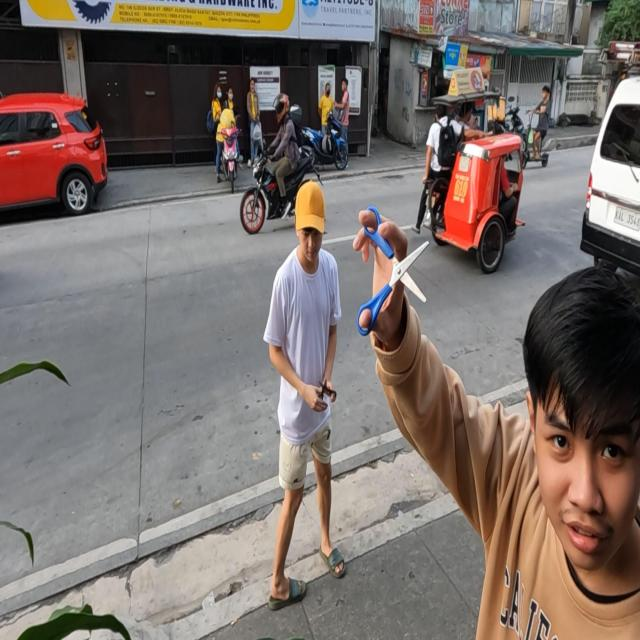scissor: (357, 210, 429, 342), (312, 378, 339, 410)
